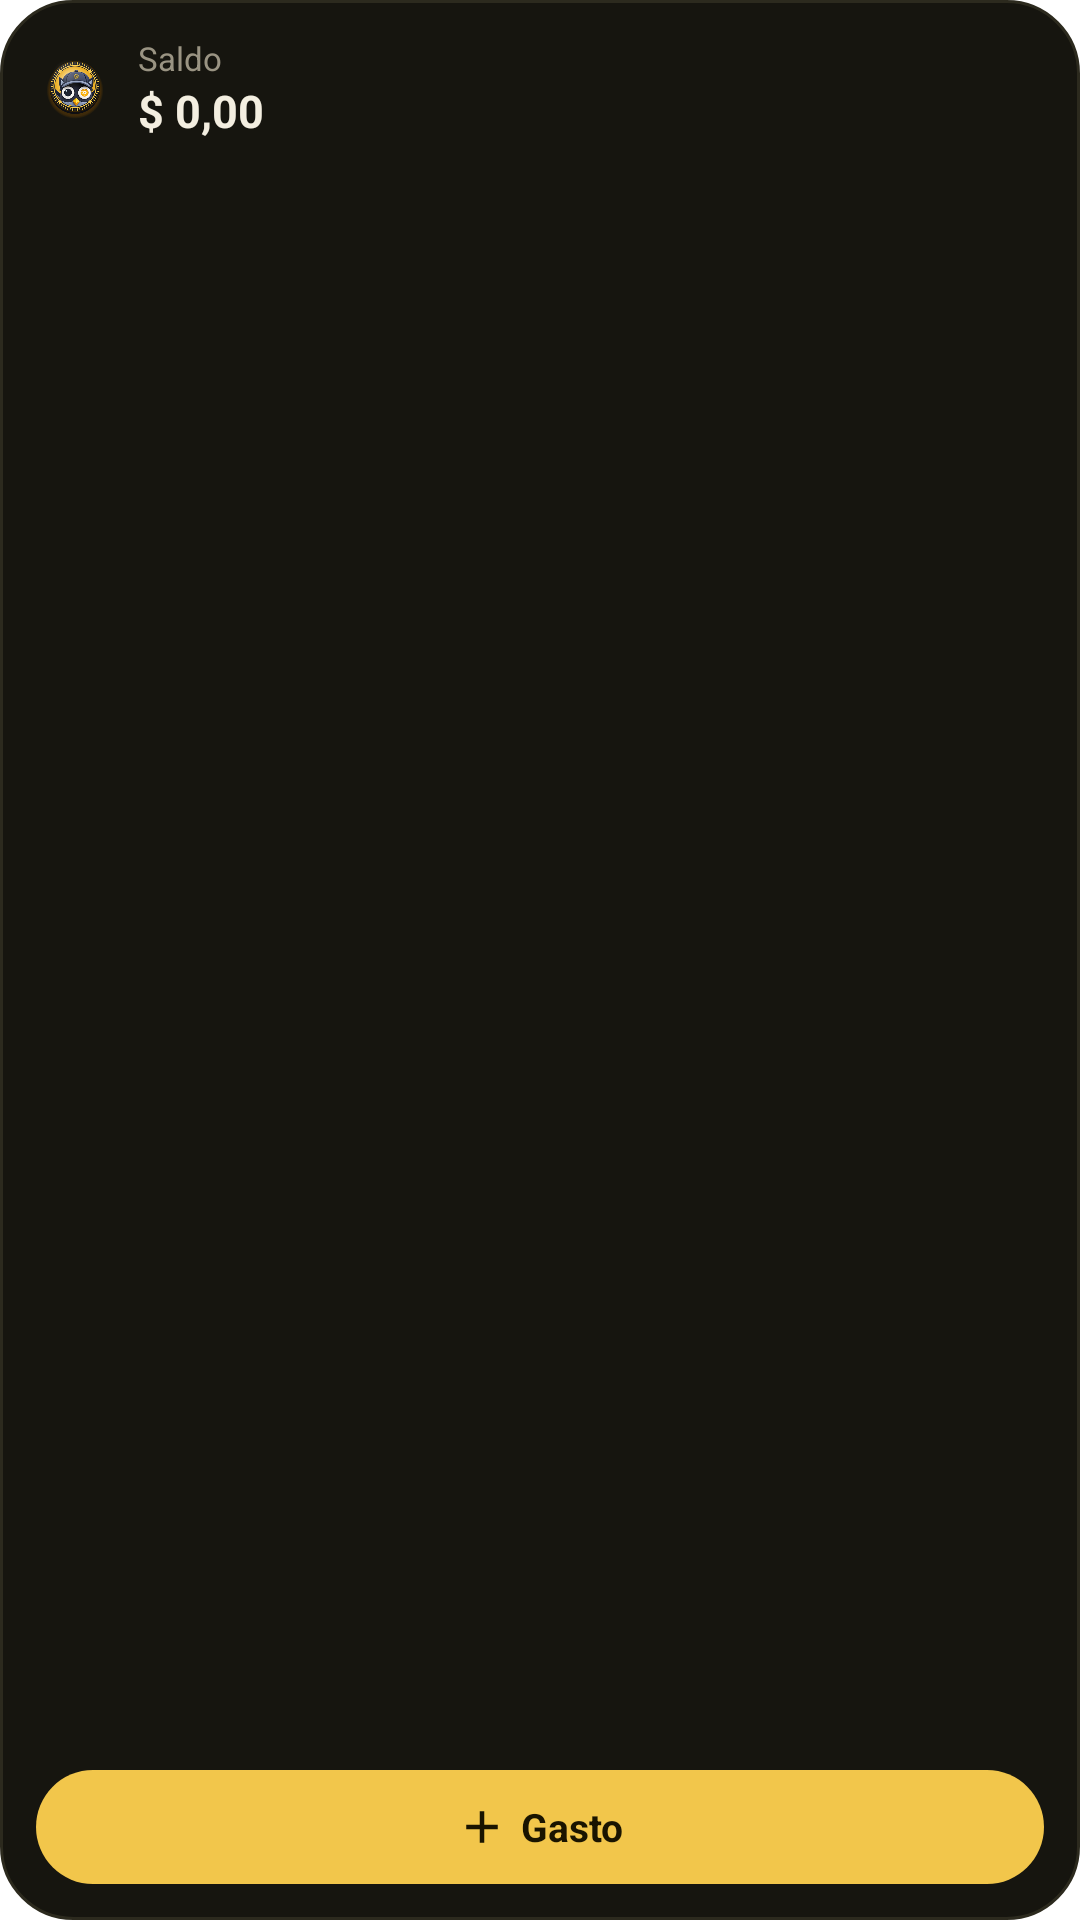

Where icons sit on this 1080*1920 app screen, as box(x1, y1, x2, y2):
add: box(466, 1811, 498, 1843)
widget coin: box(48, 61, 102, 117)
